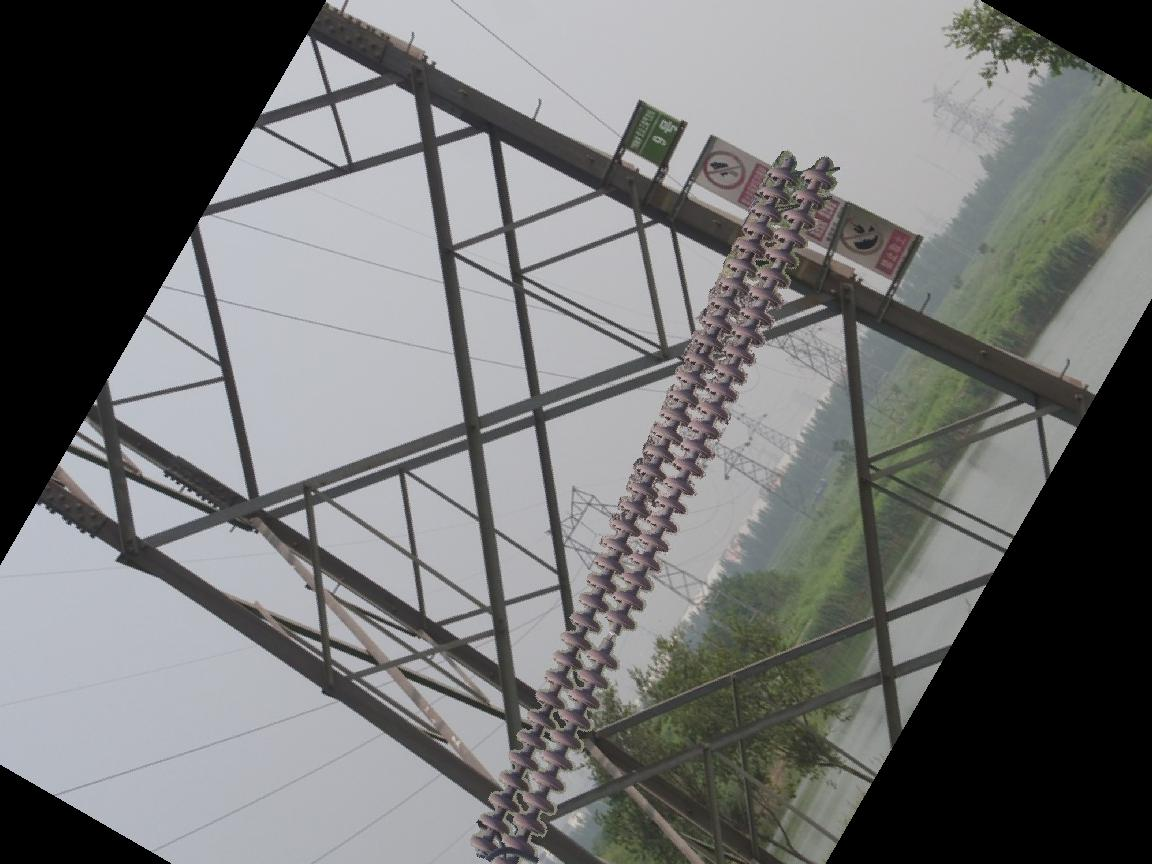insulator: (462, 158, 843, 864)
insulator_stringdrop: (586, 609, 640, 672)
